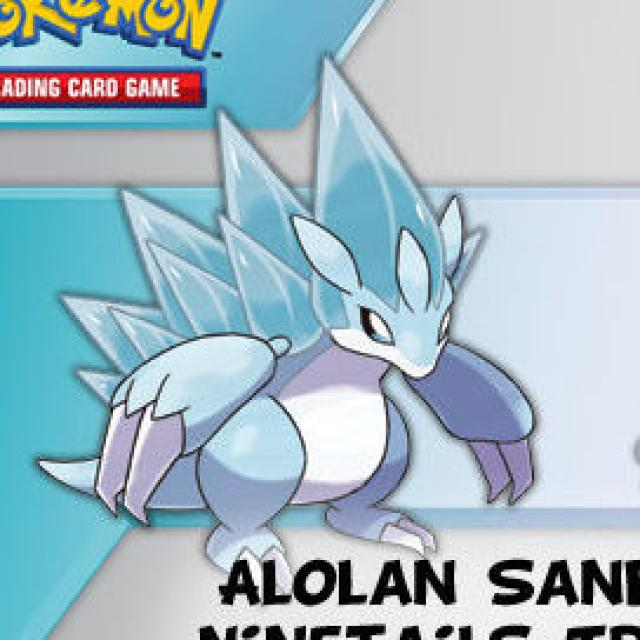Alolan: (93, 108, 498, 553)
